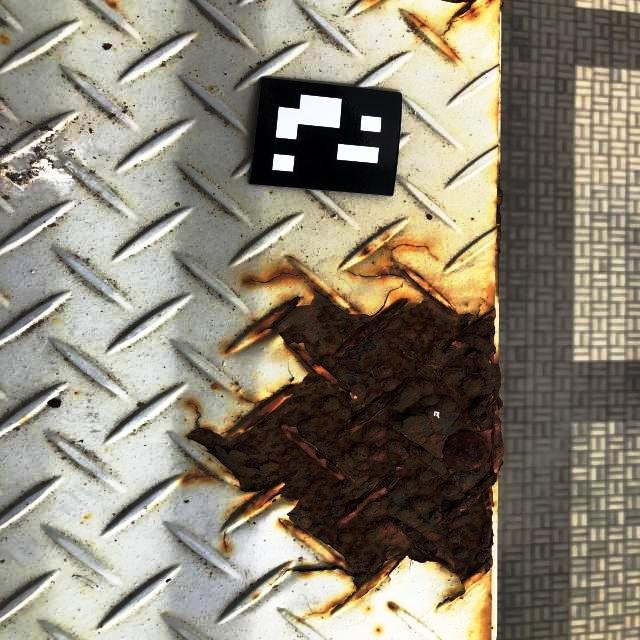Corrosion: (184, 236, 504, 617), (408, 12, 464, 63), (487, 161, 503, 302), (441, 0, 495, 37), (183, 473, 217, 482), (222, 530, 229, 553), (223, 344, 236, 354), (105, 0, 117, 9), (1, 36, 11, 44), (369, 0, 381, 6), (499, 0, 504, 12), (498, 65, 501, 75)
